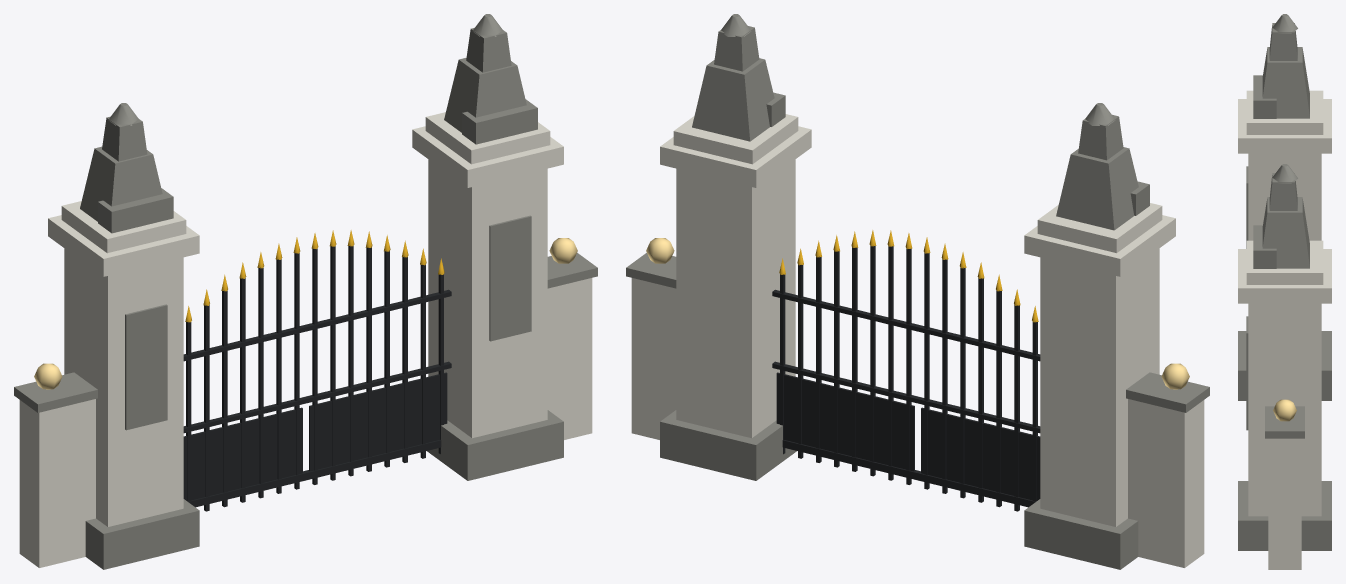
Rendered from gerbang_kebun_raya.glb.
The picture shows the model from 3 angles, left to right: view 1: azimuth 30°, elevation 25°; view 2: azimuth 150°, elevation 25°; view 3: azimuth 270°, elevation 25°; orthographic projection. The views are drawn at different scales.
Parts seen in each view (by area): view 1: body, gate_l, gate_r; view 2: body, gate_l, gate_r; view 3: body.
Part boxes in pixels (x1,y1,x2,y2): body: (14, 14, 597, 569); gate_l: (305, 230, 451, 484); gate_r: (183, 237, 307, 511); body: (626, 14, 1209, 569); gate_l: (772, 230, 918, 484); gate_r: (916, 237, 1040, 511); body: (1238, 14, 1331, 569).
Bounding box in the file's own units: 8.15 × 6.03 × 1.4.
1 material, 1 textured.
